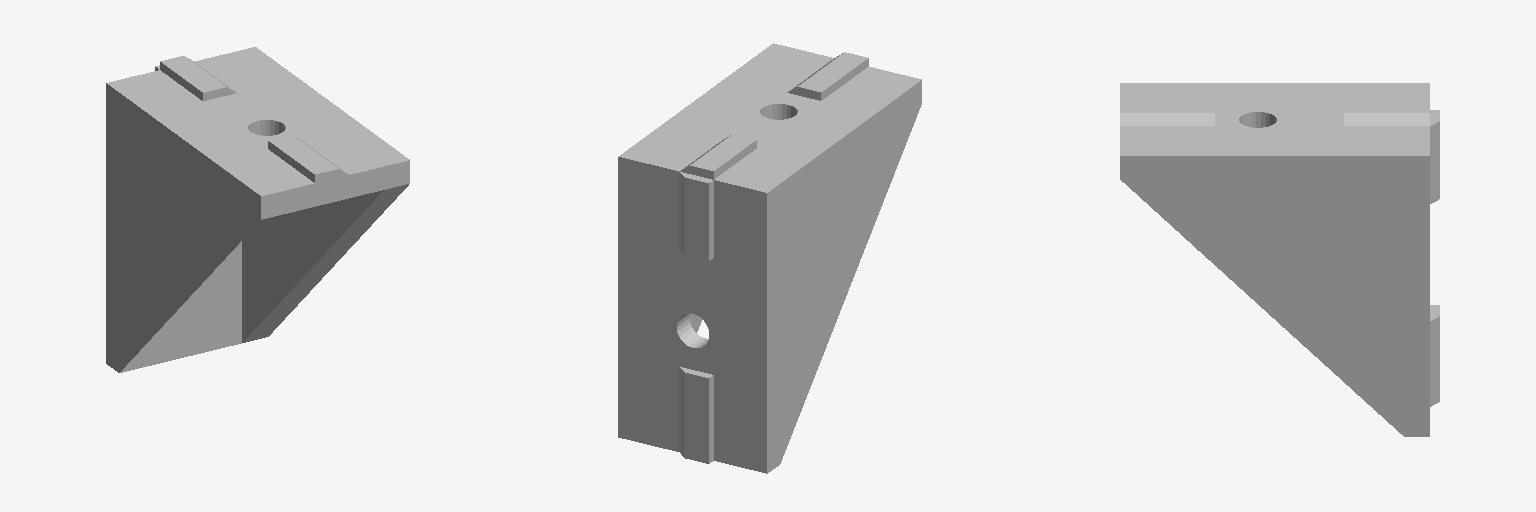
The model's file is corner bracket.obj.
3 views of the same model, side by side, from view 1: azimuth 30°, elevation 25°; view 2: azimuth 150°, elevation 25°; view 3: azimuth 270°, elevation 25° (orthographic).
Parts seen in each view (by area): view 1: Mesh1 corner_bracket_1_1 Model; view 2: Mesh1 corner_bracket_1_1 Model; view 3: Mesh1 corner_bracket_1_1 Model.
Part boxes in pixels (left/top/right/bottom): Mesh1 corner_bracket_1_1 Model: left=106, top=47, right=409, bottom=372; Mesh1 corner_bracket_1_1 Model: left=618, top=43, right=921, bottom=473; Mesh1 corner_bracket_1_1 Model: left=1120, top=83, right=1439, bottom=436.
Size of the model in its own units: 20 by 37.1 by 37.1.